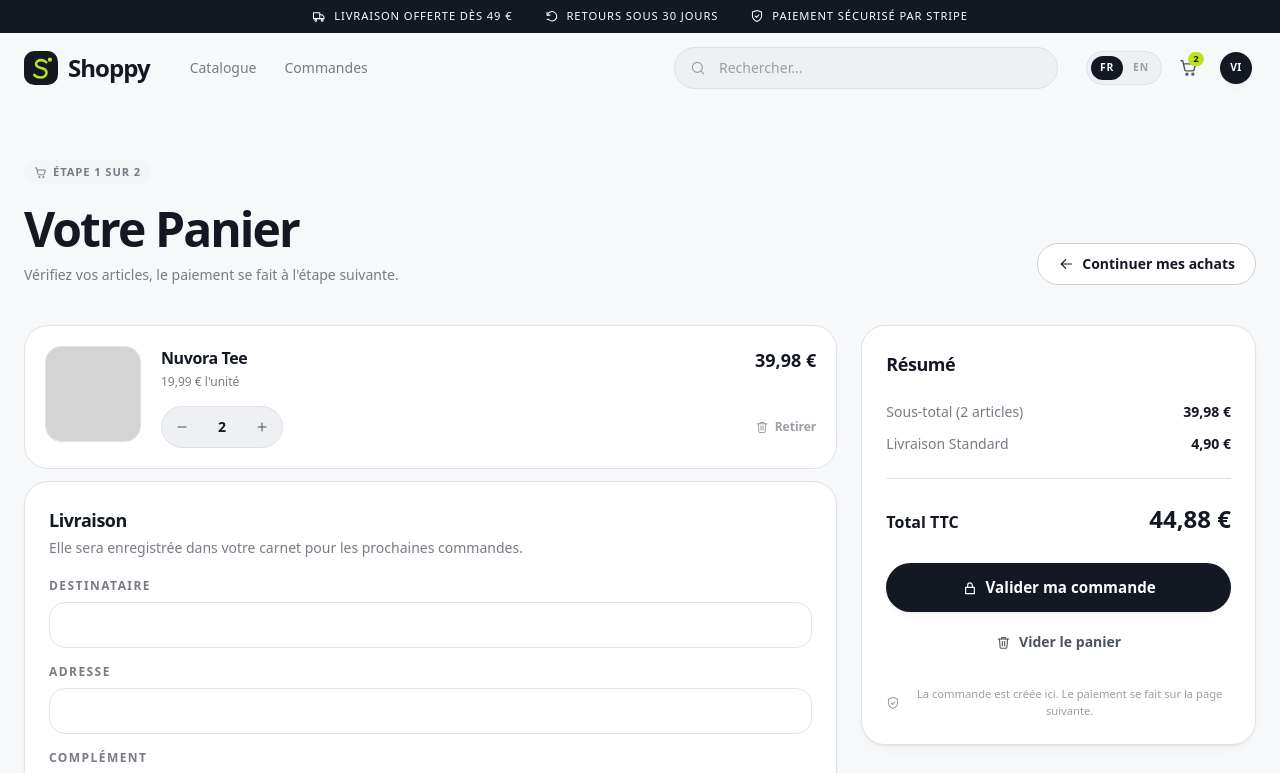
Test: CartPage › shows a stock error on checkout
Expected: the button "Valider ma commande" is shown, [886,563,1231,612]
Type "Ada Lovelace" into the field labelled "Destinataire" at [431, 625], box [49,602,812,648]
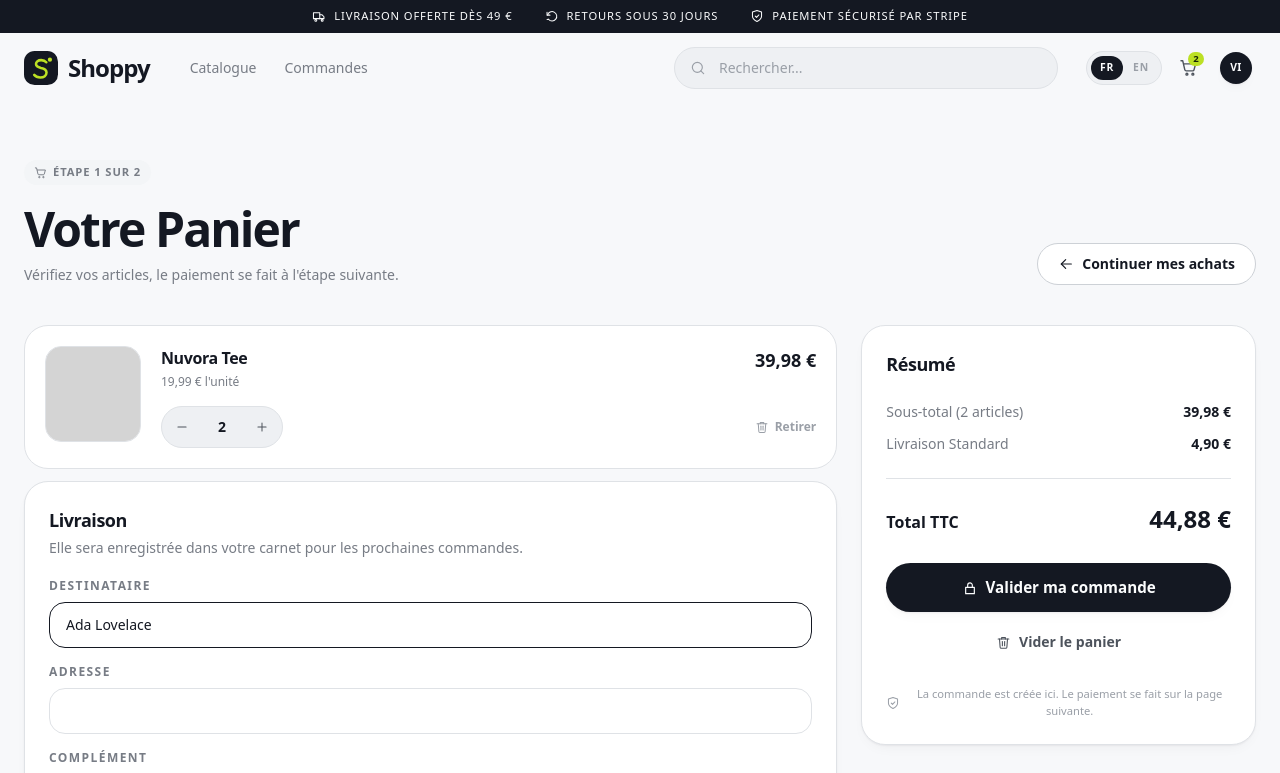
Type "10 rue de la Paix" into the field labelled "Adresse" at [431, 711], box [49,688,812,734]
(page scrolled)
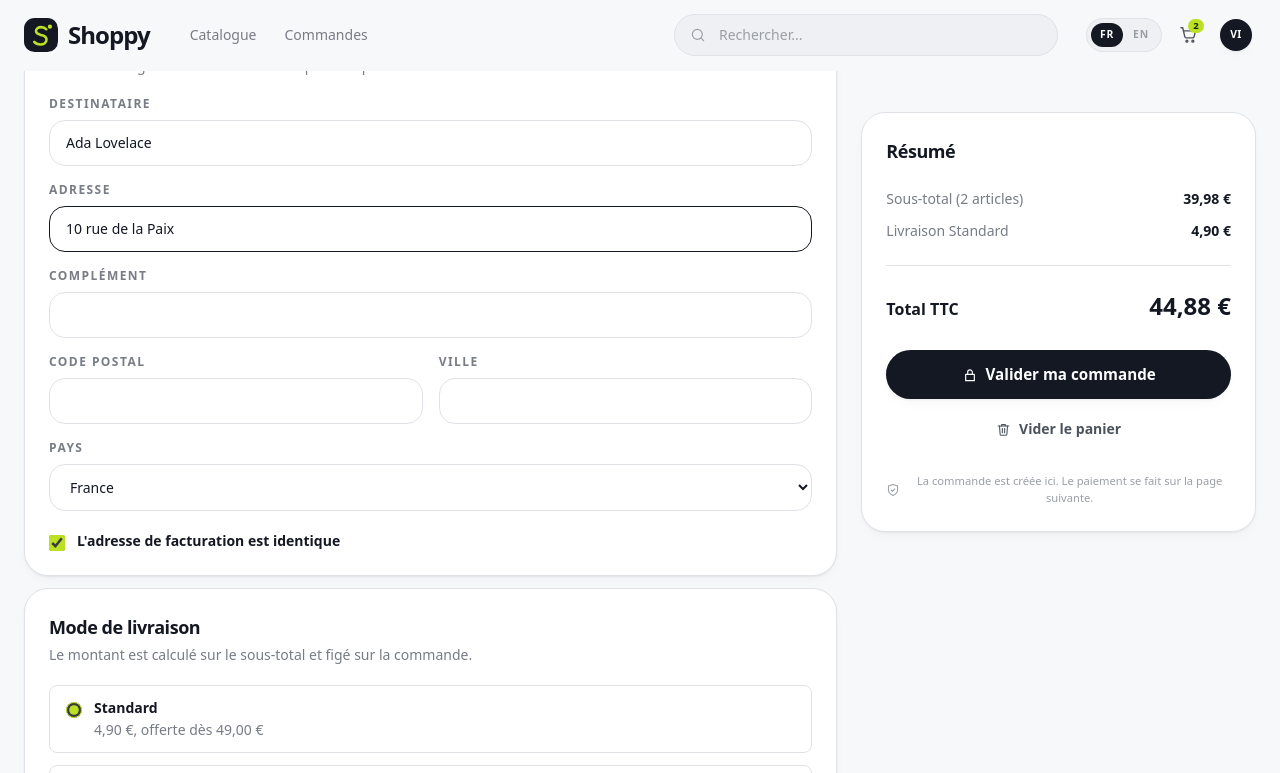
Type "75002" into the field labelled "Code postal" at [236, 401], box [49,378,423,424]
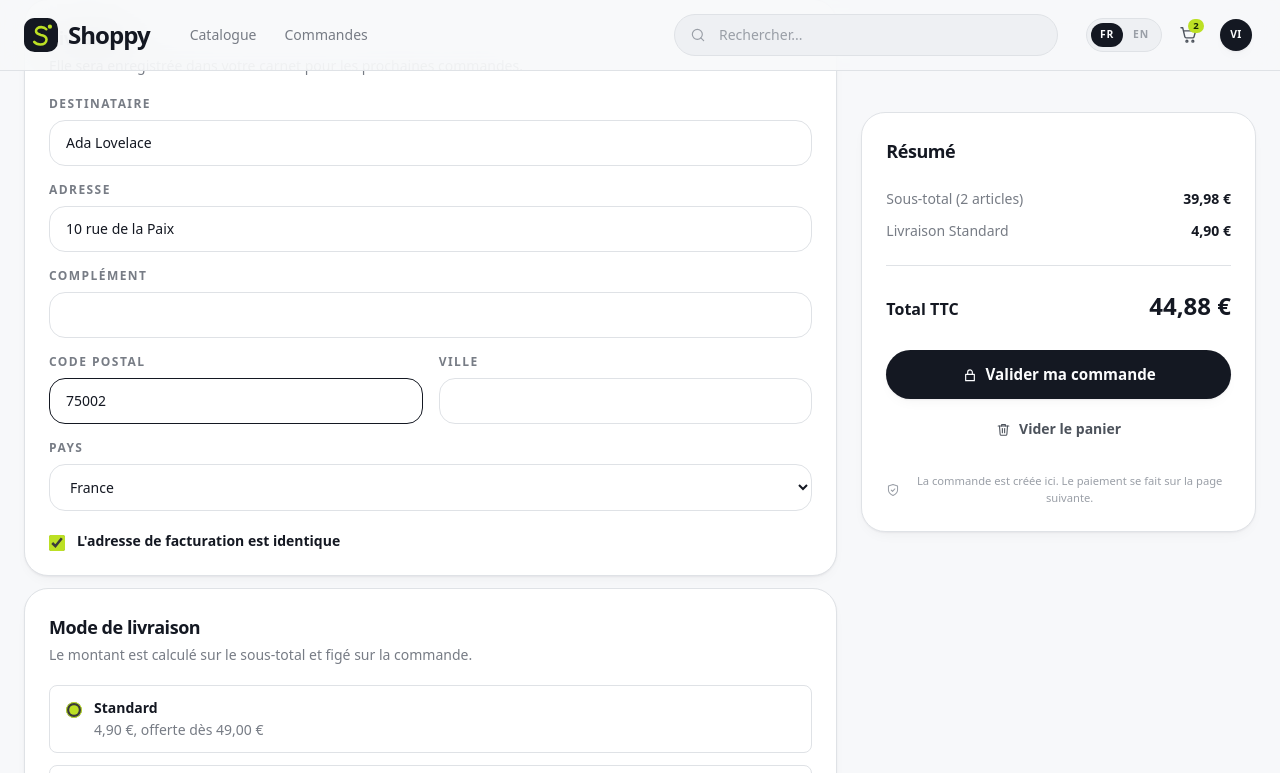
Type "Paris" into the field labelled "Ville" at [626, 401], box [439,378,812,424]
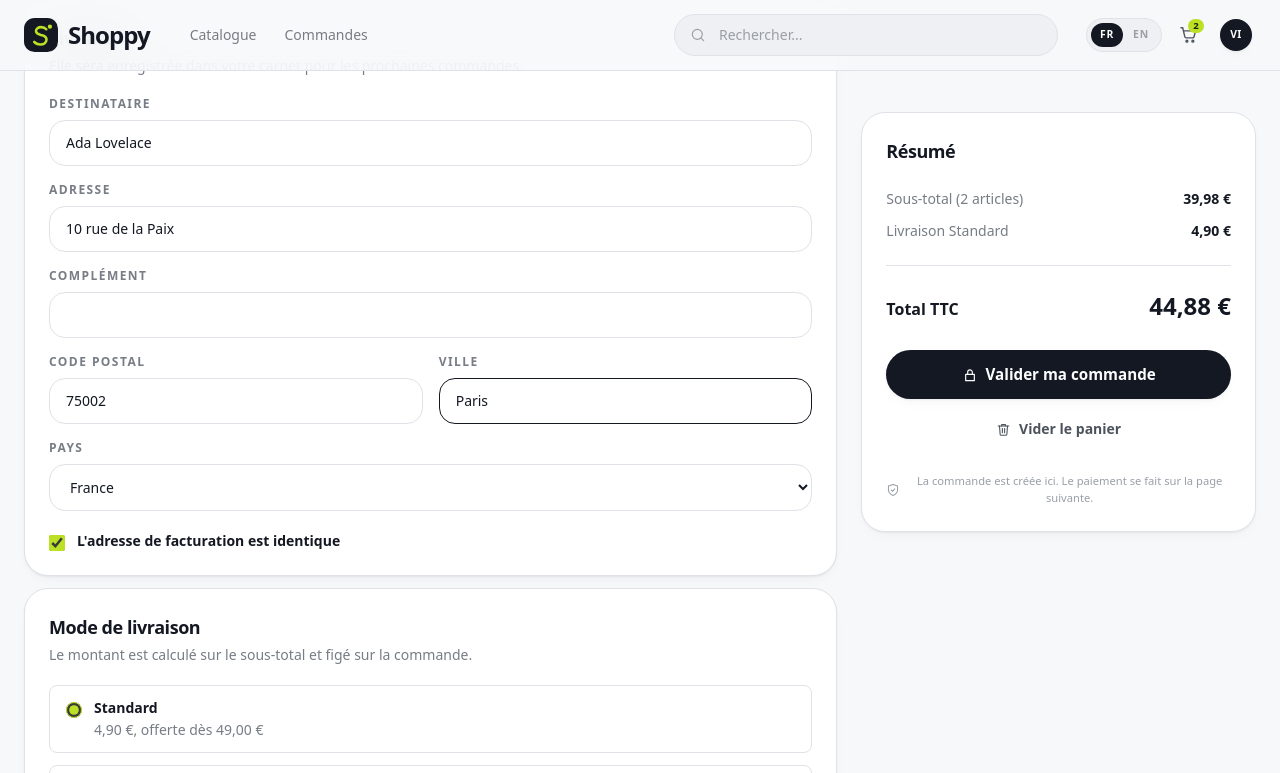
Click the button "Valider ma commande" at [1059, 375], box [886,350,1231,400]
(page scrolled)
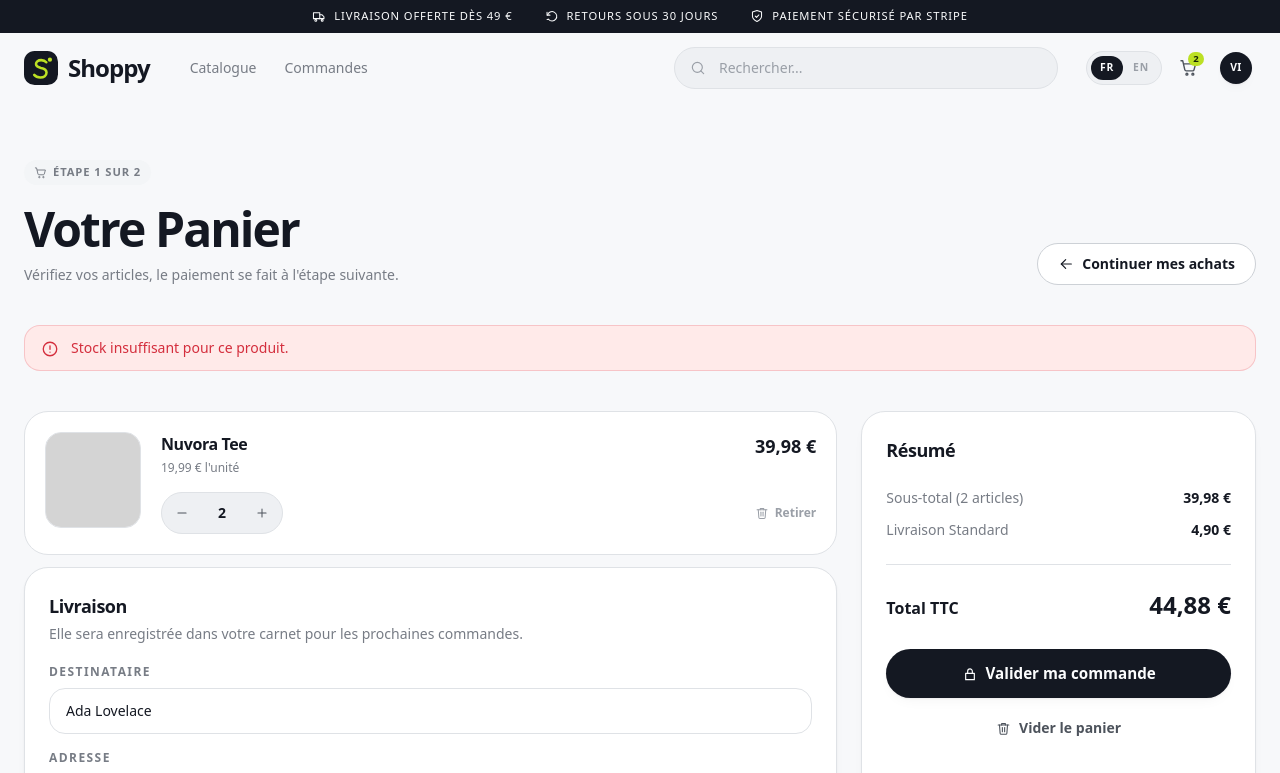
Now the message reads "Stock insuffisant pour ce produit.", box [71,338,288,357]
